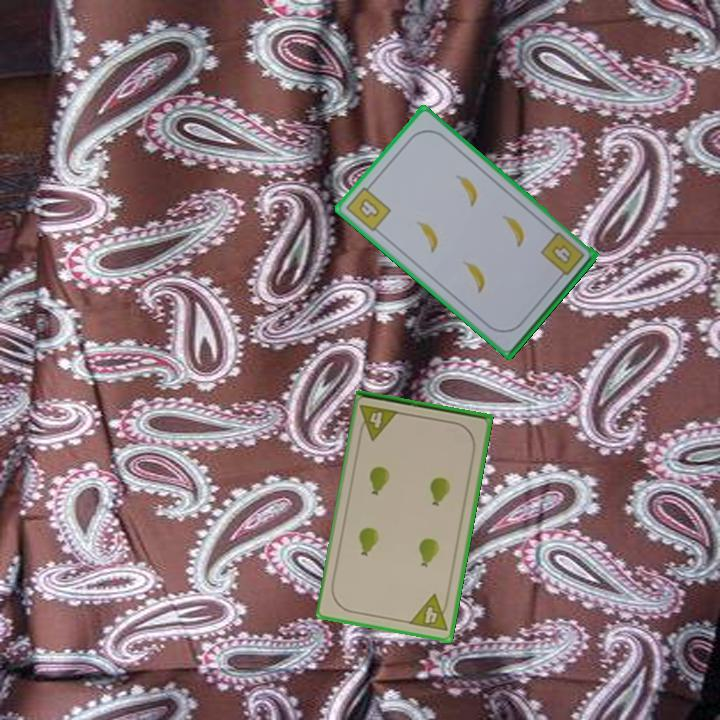4b: (342, 179, 394, 235), (548, 241, 572, 265)
4p: (406, 591, 452, 634), (355, 401, 402, 443)
